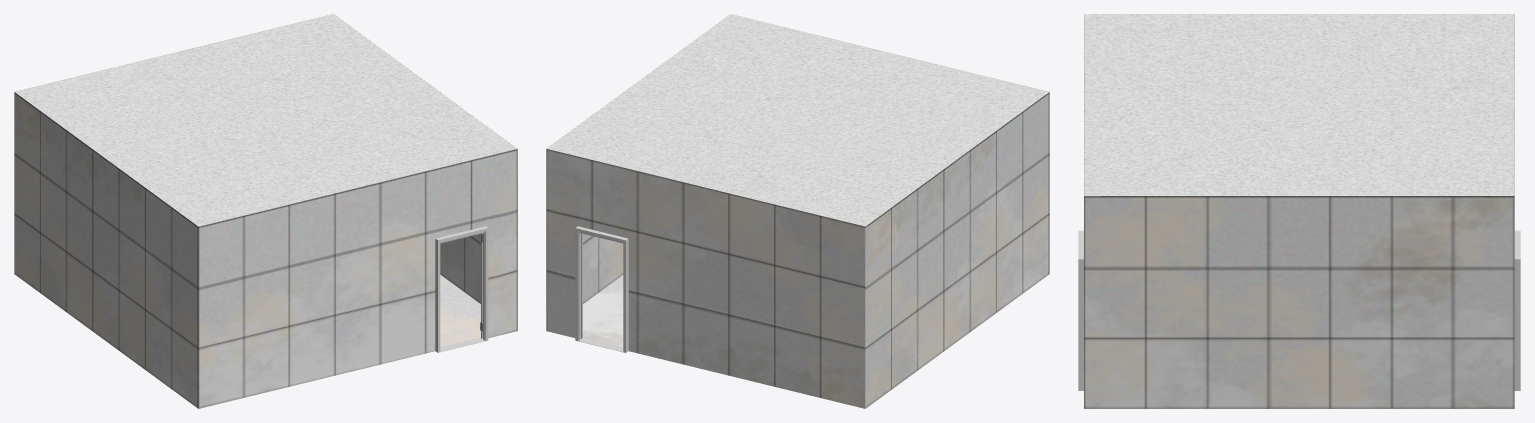
File: Room05.fbx
3 renders of one model, left to right at view 1: azimuth 30°, elevation 25°; view 2: azimuth 150°, elevation 25°; view 3: azimuth 270°, elevation 25°, orthographic. The views are drawn at different scales.
Visible parts, largest first — view 1: pCube33, polySurface33; view 2: pCube33, polySurface36; view 3: pCube33, polySurface36, polySurface33.
Boxes of the visible parts, left/top/right/bottom form: pCube33: left=14, top=14, right=517, bottom=408; polySurface33: left=435, top=226, right=488, bottom=352; pCube33: left=546, top=14, right=1049, bottom=408; polySurface36: left=575, top=226, right=628, bottom=352; pCube33: left=1084, top=14, right=1514, bottom=408; polySurface36: left=1514, top=230, right=1520, bottom=390; polySurface33: left=1078, top=230, right=1083, bottom=390.
Size of the model in its own units: 649 by 354 by 667.
Materials: 3 (1 with a texture image).
